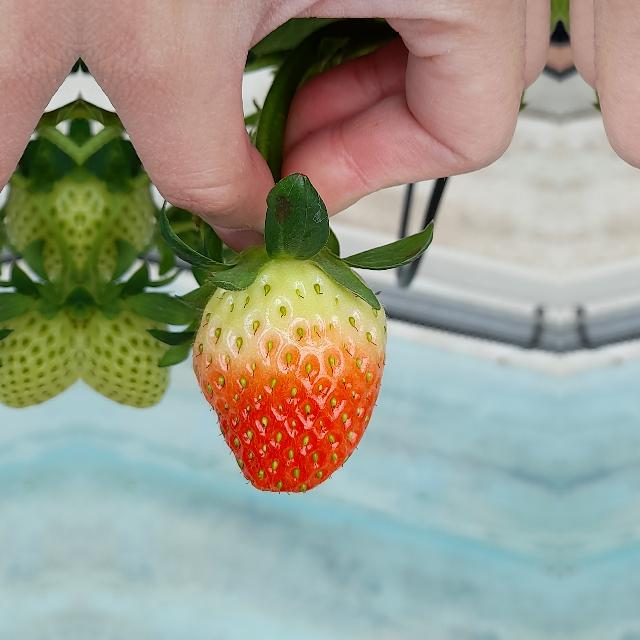Health_25: (80, 296, 176, 412), (0, 296, 80, 412)
Health_75: (192, 258, 386, 492)
